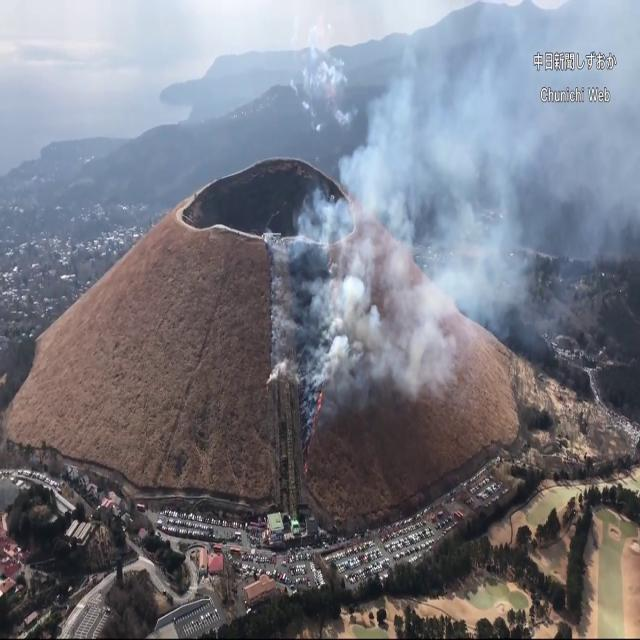Smoke: (277, 0, 639, 403)
